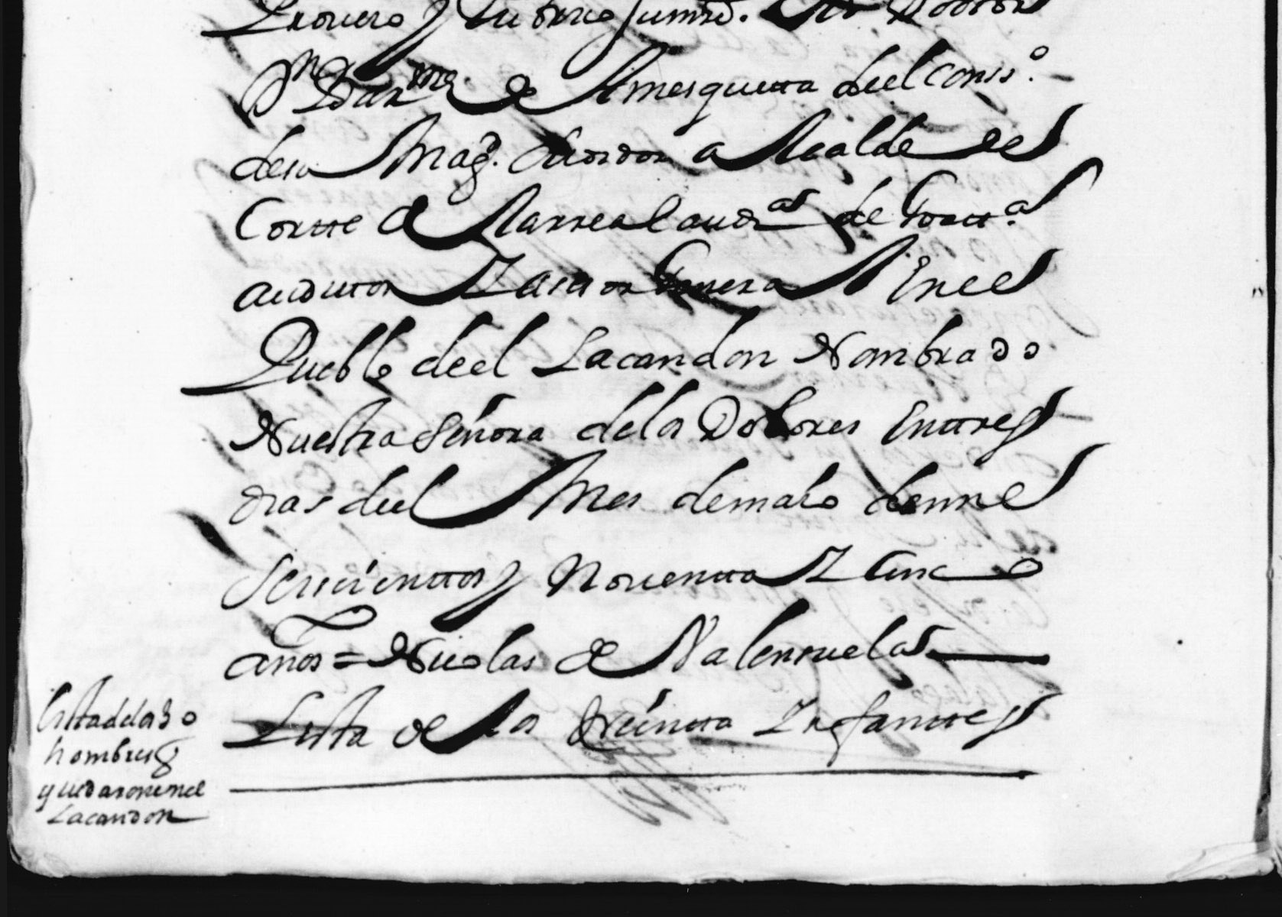lacandon: (531, 304, 777, 377), (47, 803, 209, 826)
